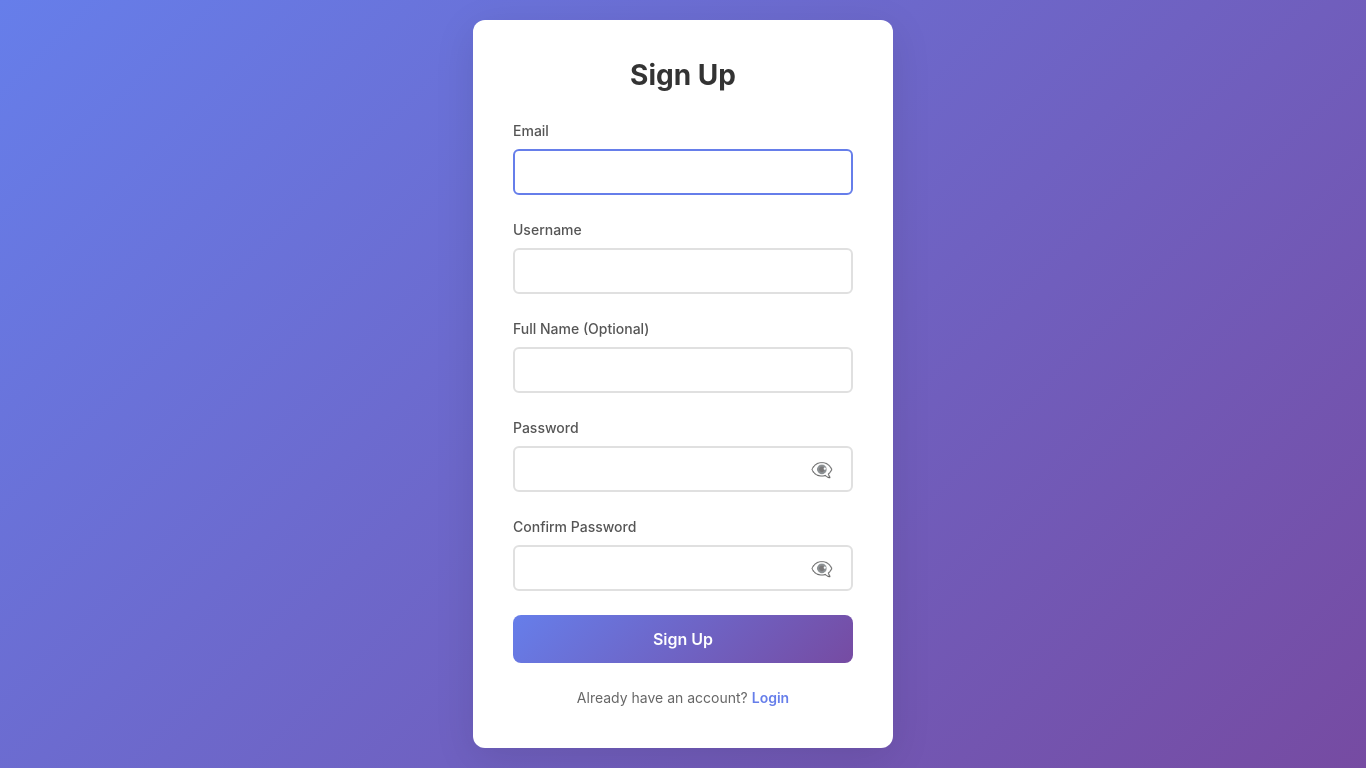
Scenario: Signup Component › Form Validation › shows error when passwords do not match
Type "test@example.com" into the field labelled "Email" at (683, 172), box 513,149 -> 853,195
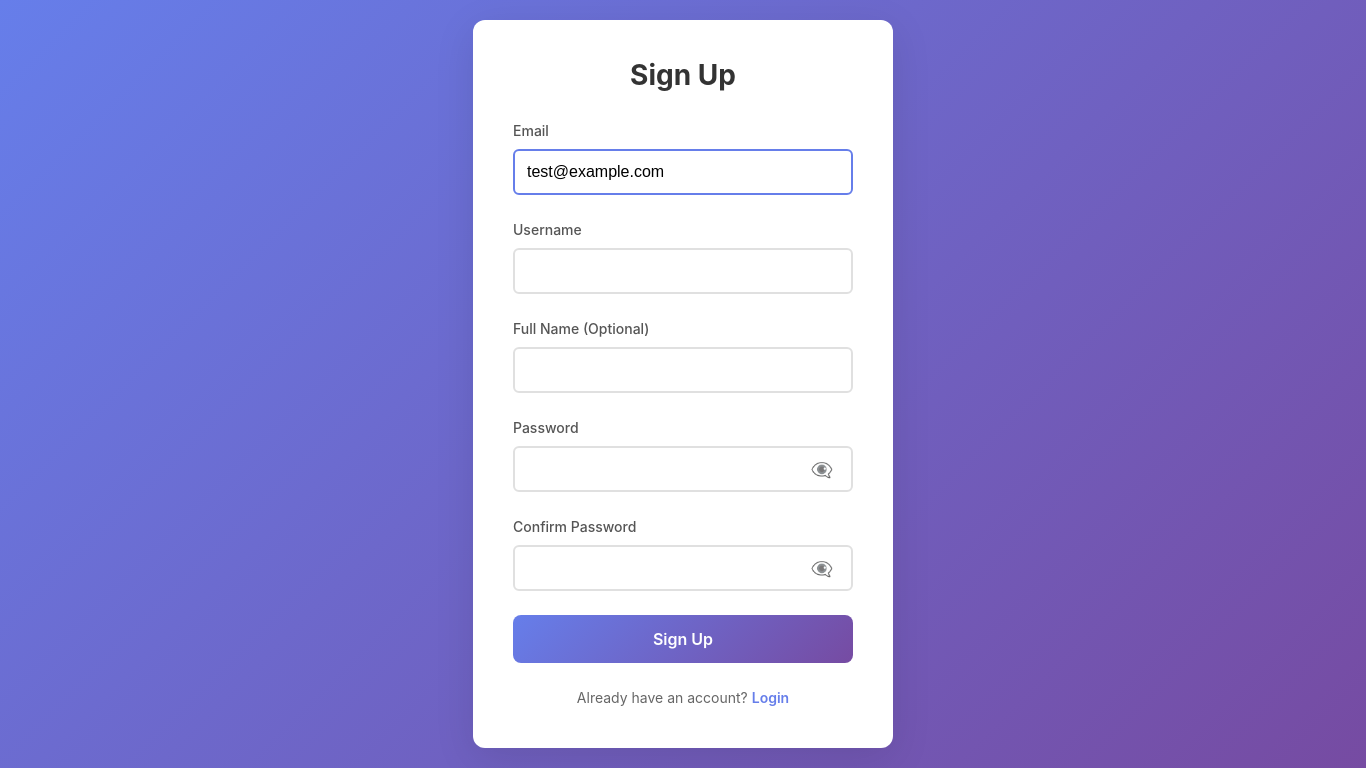
Type "testuser" into the field labelled "Username" at (683, 271), box 513,248 -> 853,294
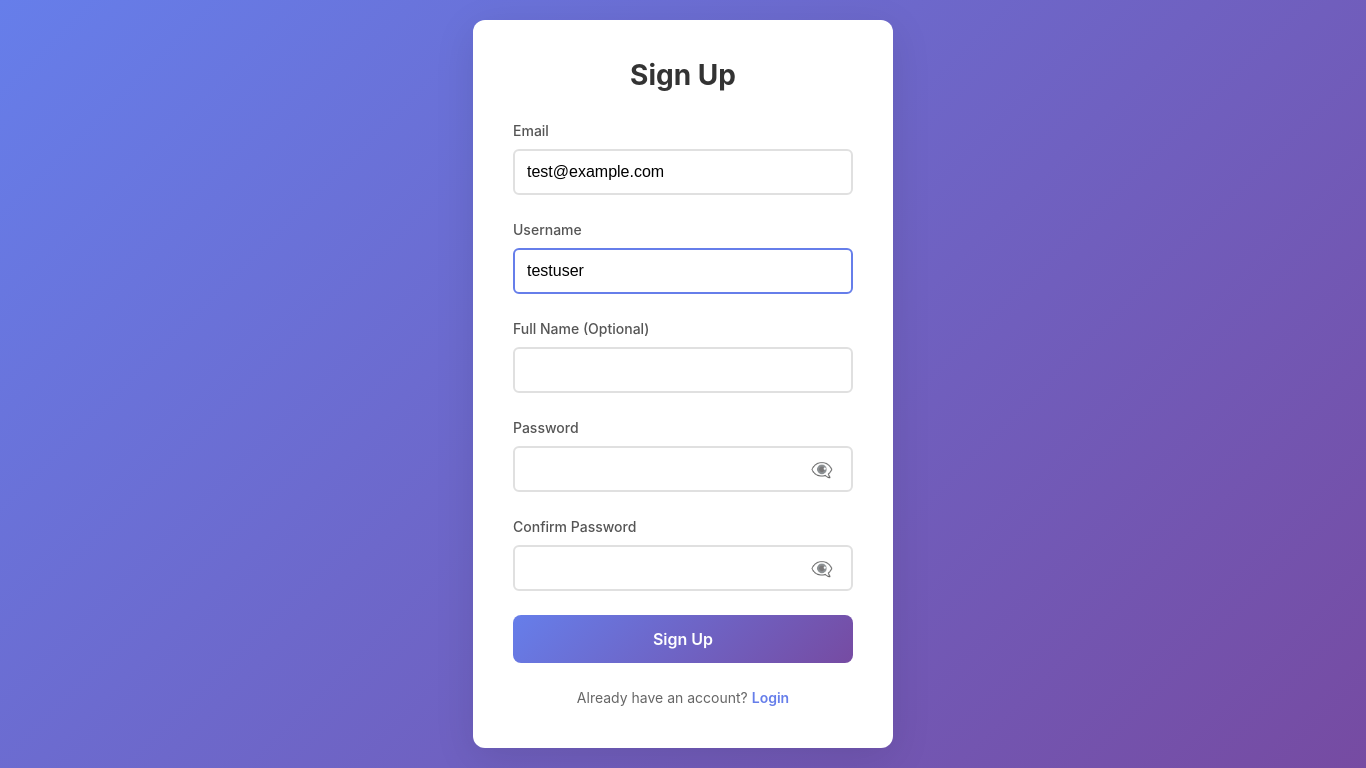
Type "password123" into the password field labelled "Password" at (683, 469), box 513,446 -> 853,492
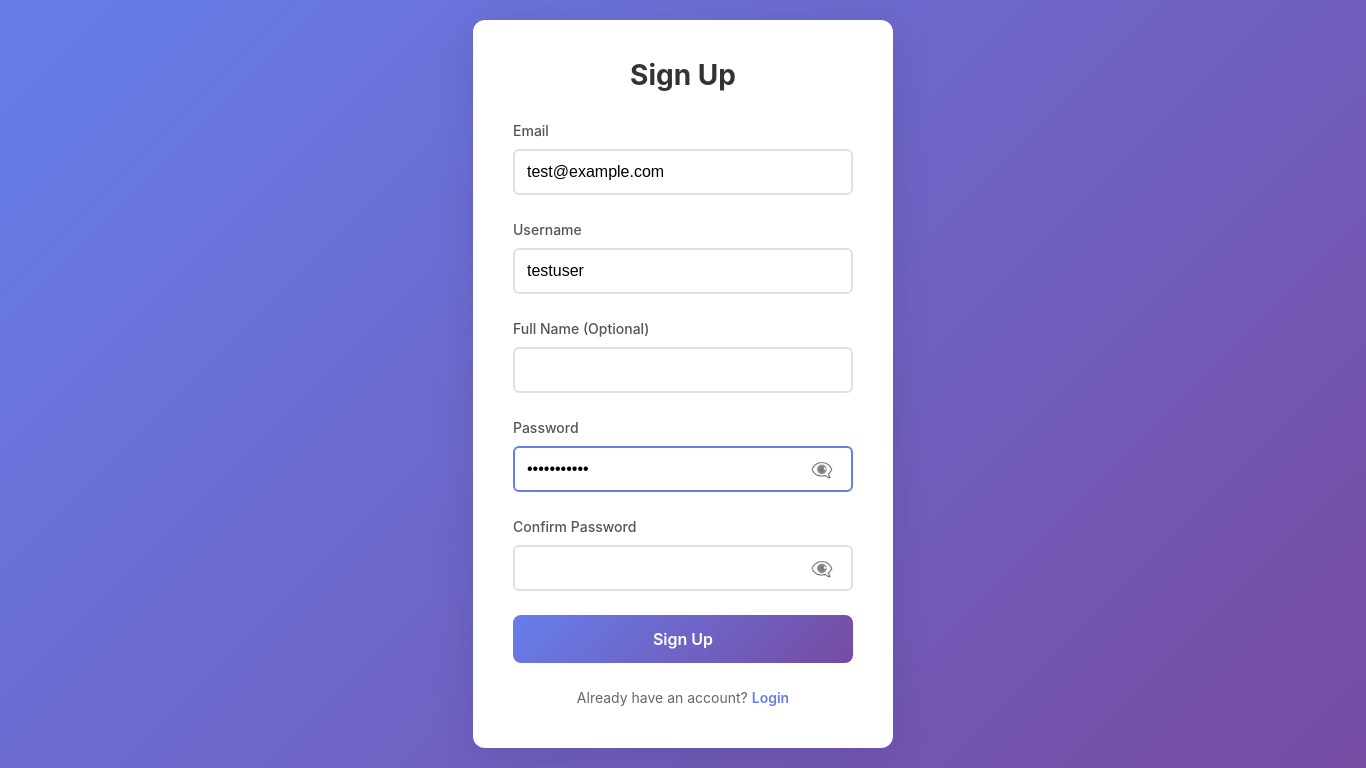
Type "differentpassword" into the password field labelled "Confirm Password" at (683, 568), box 513,545 -> 853,591
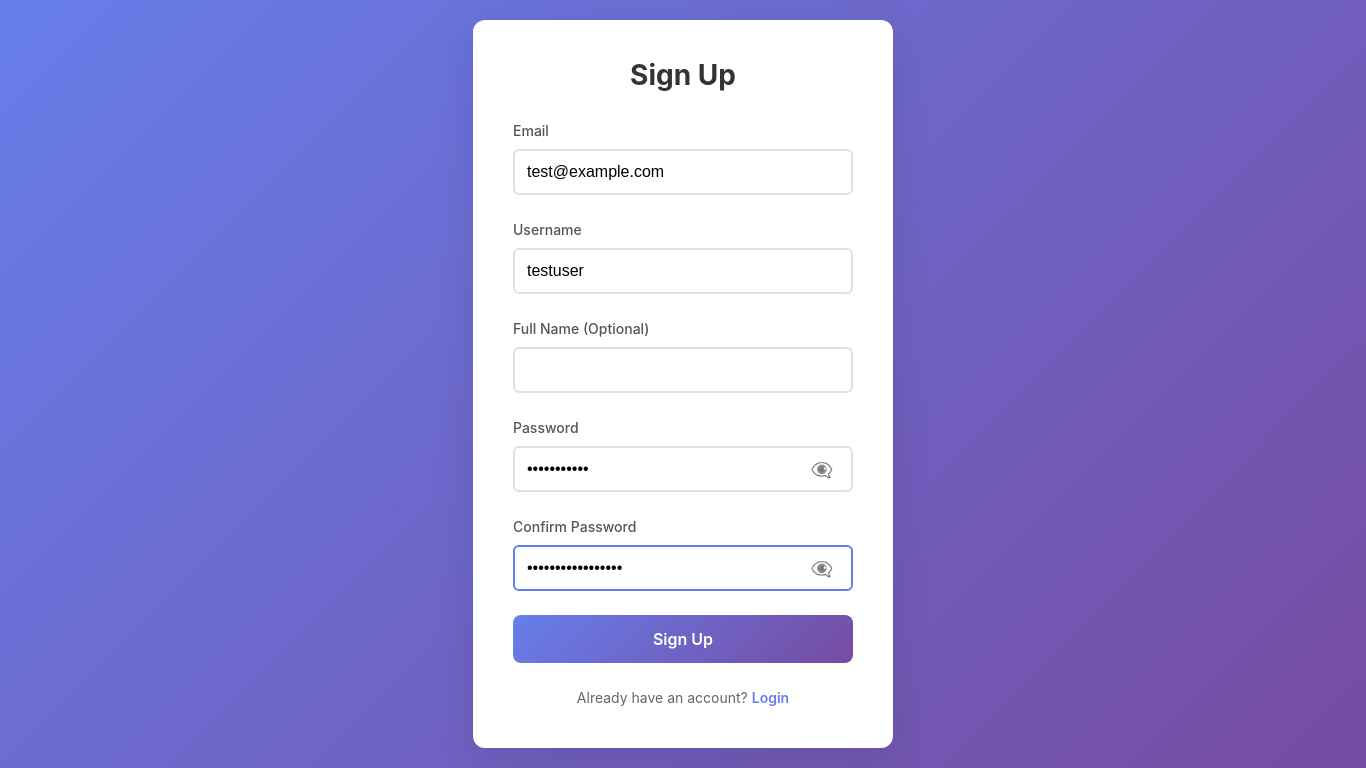
Click the button "Sign Up" at (683, 639), box 513,615 -> 853,663
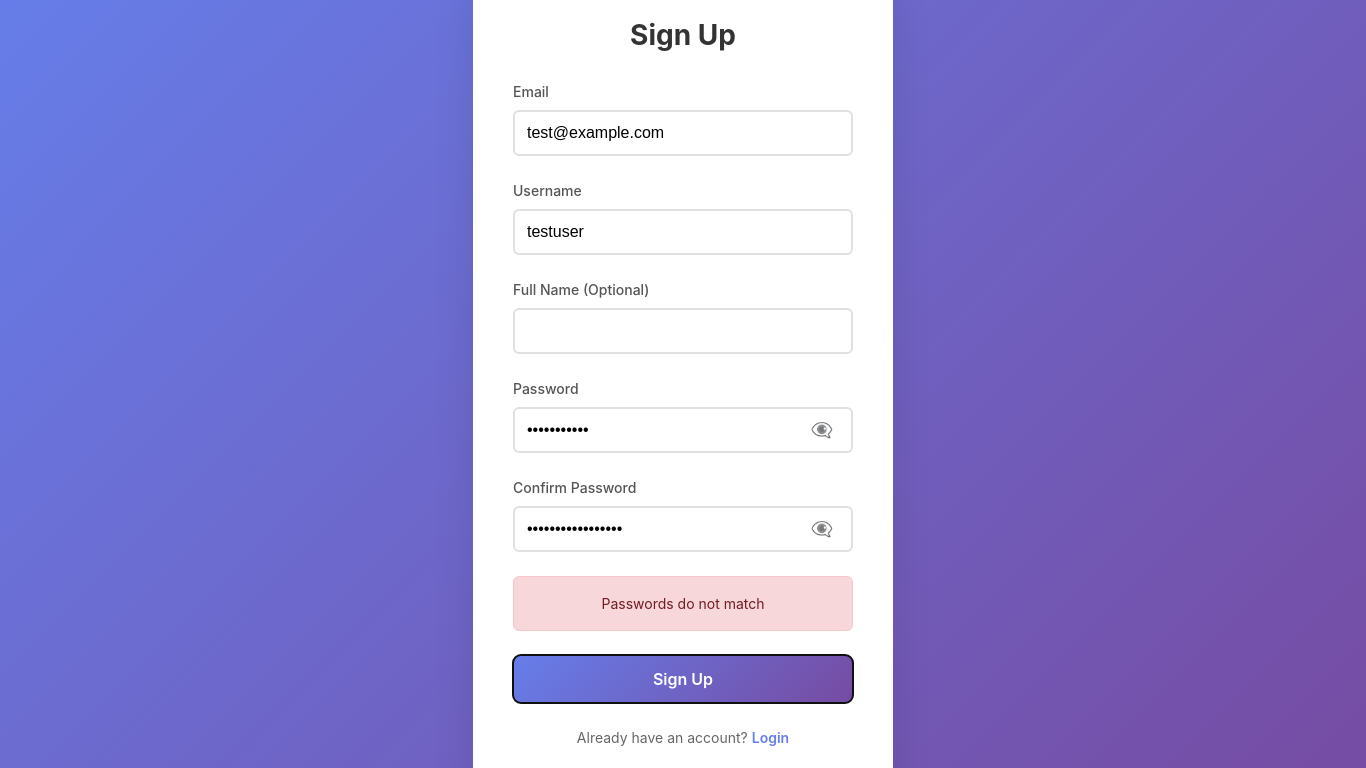
Result: the text "Passwords do not match" is shown at 513,576 -> 853,631
